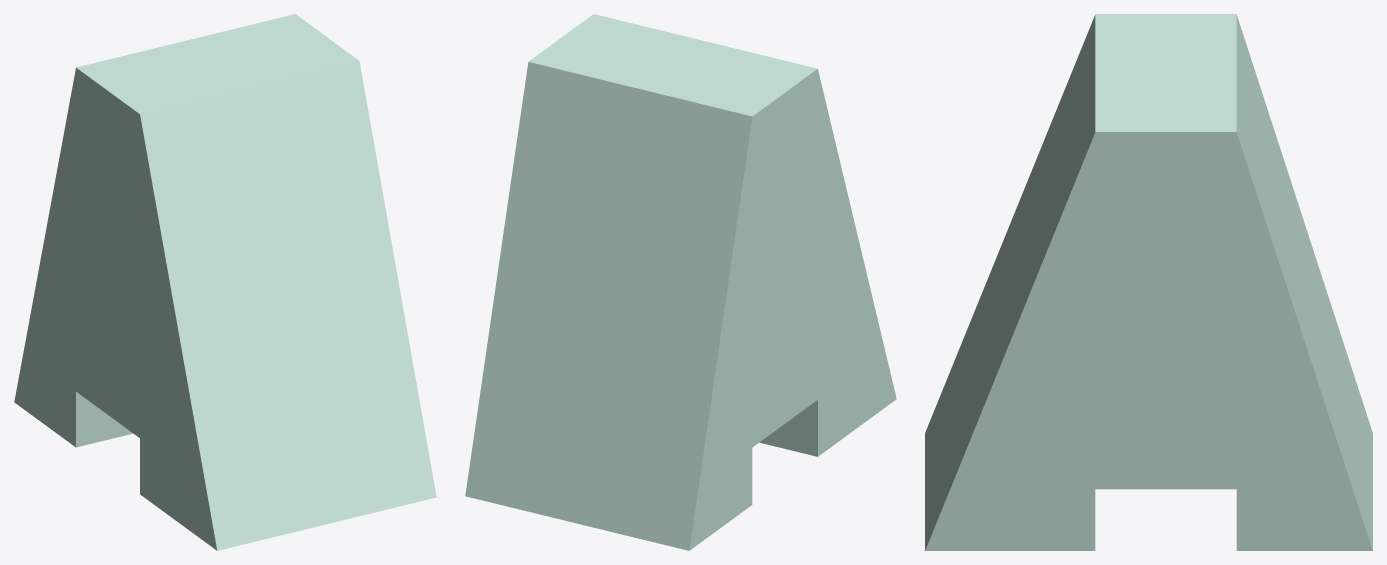
The picture shows the model from 3 angles, left to right: view 1: azimuth 30°, elevation 25°; view 2: azimuth 150°, elevation 25°; view 3: azimuth 270°, elevation 25°; orthographic projection. The views are drawn at different scales.
Parts seen in each view (by area): view 1: Renderer Node; view 2: Renderer Node; view 3: Renderer Node.
Part boxes in pixels (left/top/right/bottom): Renderer Node: left=14, top=14, right=436, bottom=550; Renderer Node: left=465, top=14, right=896, bottom=550; Renderer Node: left=925, top=14, right=1372, bottom=550.
Size of the model in its own units: 0.4531 by 0.75 by 0.7263.
